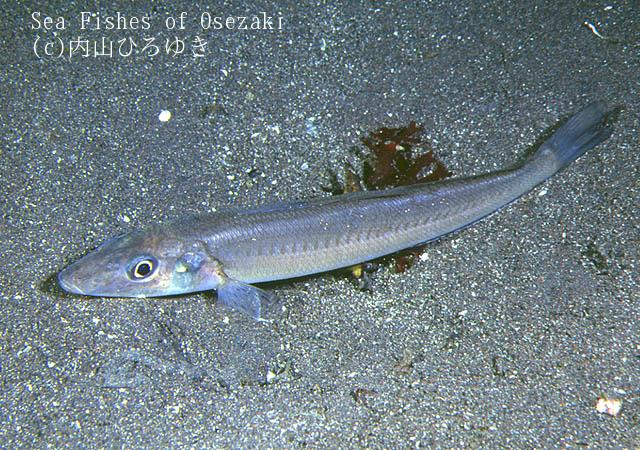kiss: (61, 133, 613, 331)
